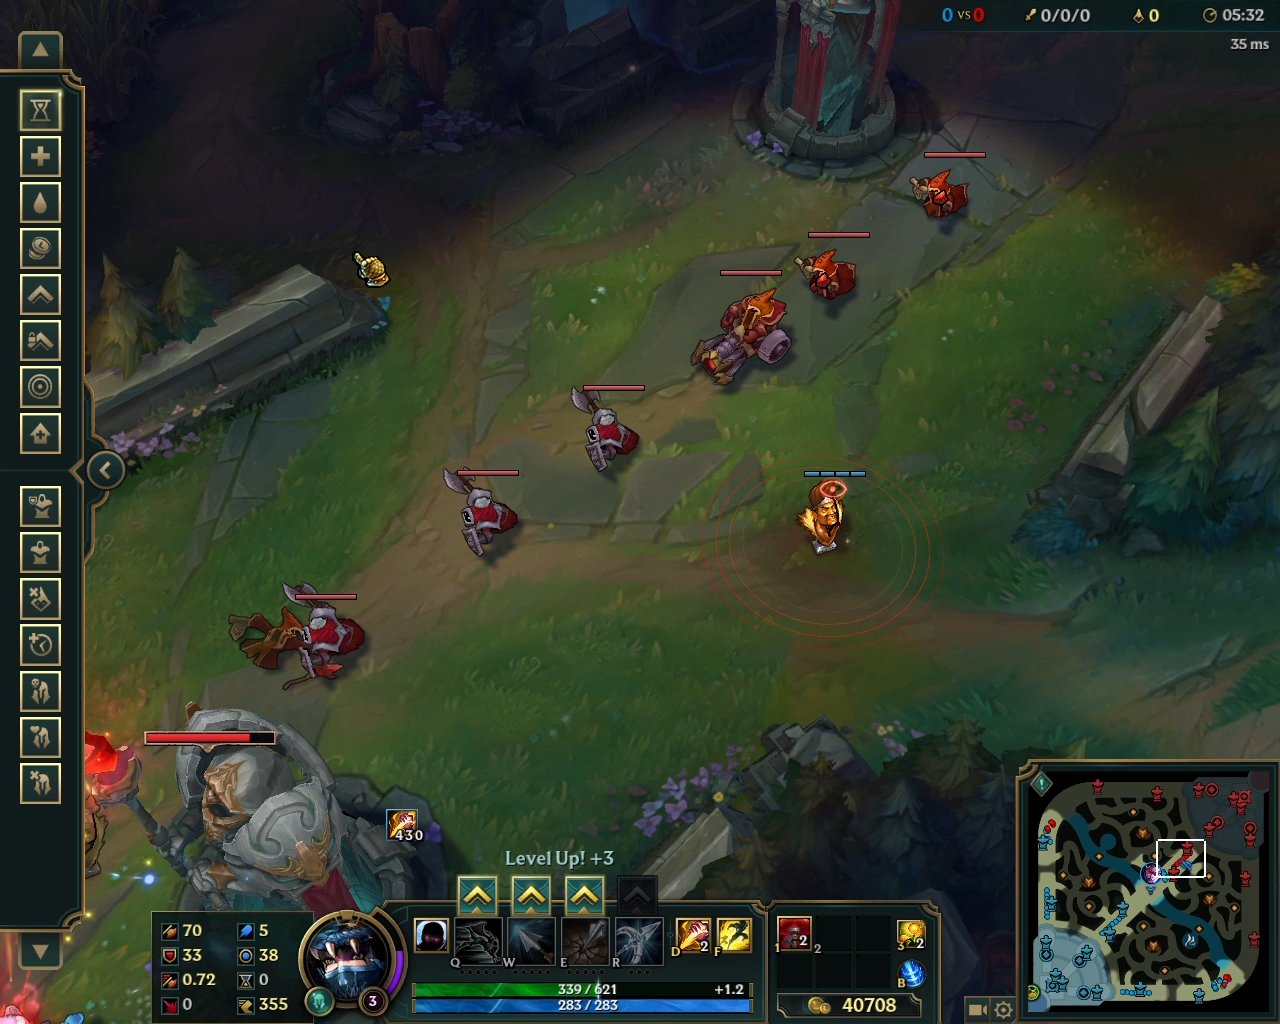EnemyMinion: (678, 267, 793, 391), (288, 582, 372, 681), (440, 466, 526, 562), (562, 385, 647, 476), (795, 230, 870, 311), (904, 153, 987, 224)
Tower: (82, 702, 465, 900)
